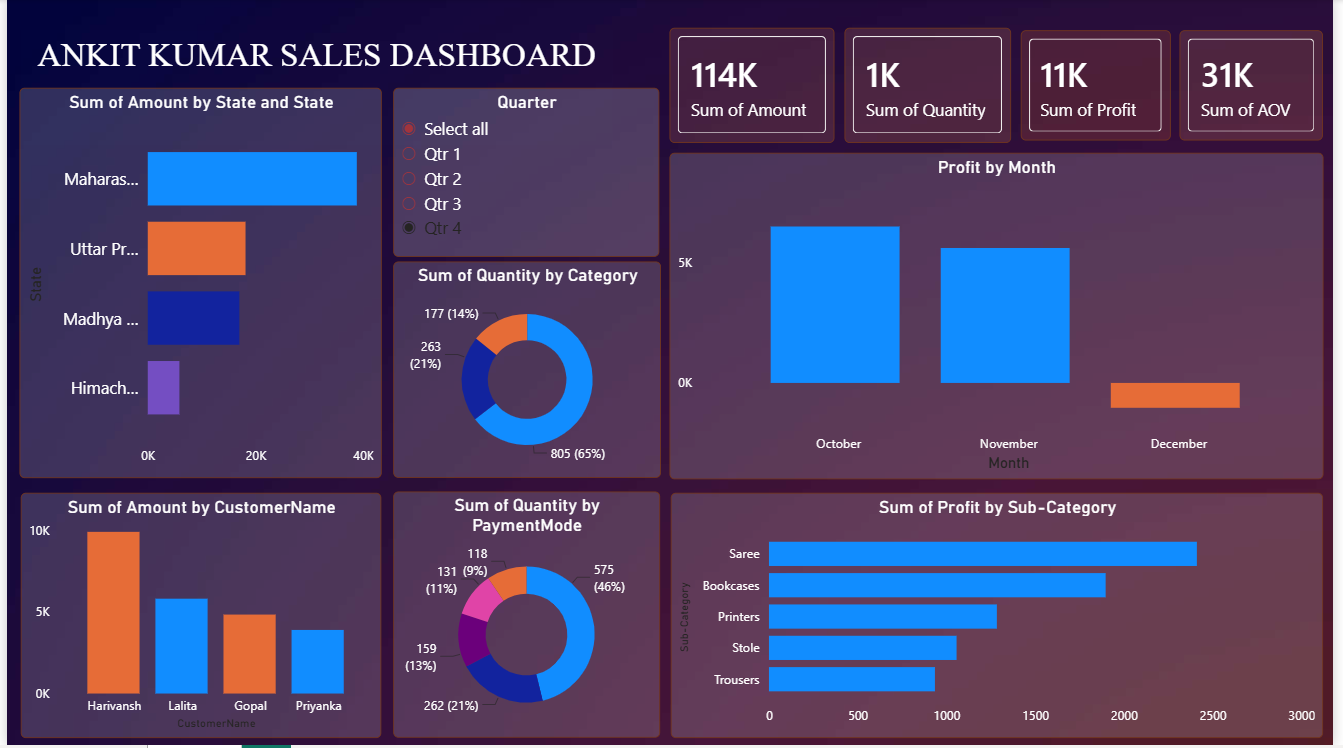

What the dashboard file says about the page in this screenshot:
{"tool":"powerbi","page":{"name":"Page 1","canvas":[1280,720],"ordinal":0},"visuals":[{"type":"textbox","box":[13.3,30.3,571.5,110.4],"z":0},{"type":"columnChart","title":"Profit by Month","fields":{"Y":["Sum(Details.Profit)"],"Category":["Orders.Order Date.Variation.Date Hierarchy.Month"]},"box":[639.4,148,630.9,315.5],"z":1000},{"type":"barChart","fields":{"Category":["Details.Sub-Category"],"Y":["Sum(Details.Profit)"]},"box":[640.6,476.8,629.7,236.6],"z":2000},{"type":"donutChart","fields":{"Category":["Details.Category"],"Y":["Sum(Details.Quantity)"]},"box":[372.5,253.6,258.4,208.7],"z":3000},{"type":"donutChart","fields":{"Y":["Sum(Details.Quantity)"],"Category":["Details.PaymentMode"]},"box":[372.5,475.6,257.2,237.8],"z":4000},{"type":"cardVisual","fields":{"Data":["Sum(Details.Amount)"]},"box":[606.6,30.3,180.8,110.4],"z":5000},{"type":"cardVisual","fields":{"Data":["Sum(Details.Quantity)"]},"box":[776.5,30.3,179.6,110.4],"z":6000},{"type":"cardVisual","fields":{"Data":["Sum(Details.Profit)"]},"box":[954.8,30.3,163.8,105.6],"z":7000},{"type":"cardVisual","fields":{"Data":["Sum(Details.Column)"]},"box":[1110.1,27.9,160.2,105.6],"z":8000},{"type":"barChart","fields":{"Category":["Orders.State"],"Series":["Orders.State"],"Y":["Sum(Details.Amount)"]},"box":[12.1,148,349.4,314.2],"z":9000},{"type":"columnChart","fields":{"Category":["Orders.CustomerName"],"Y":["Sum(Details.Amount)"]},"box":[13.3,476.8,348.2,236.6],"z":10000},{"type":"listSlicer","fields":{"Values":["Orders.Order Date.Variation.Date Hierarchy.Quarter"]},"box":[372.5,148,257.2,100.7],"z":11000}]}

Visuals, with their boxes in screenshot pixels (x1, y1, x2, y2), scaled from the page's 1280x720 canvas onto the 1343x748 screenshot:
textbox: pyautogui.locateOnScreen(14, 31, 614, 146)
"Profit by Month" columnChart: pyautogui.locateOnScreen(671, 154, 1333, 482)
barChart - Details.Sub-Category x Sum(Details.Profit): pyautogui.locateOnScreen(672, 495, 1333, 741)
donutChart - Details.Category x Sum(Details.Quantity): pyautogui.locateOnScreen(391, 263, 662, 480)
donutChart - Sum(Details.Quantity) x Details.PaymentMode: pyautogui.locateOnScreen(391, 494, 661, 741)
cardVisual - Sum(Details.Amount): pyautogui.locateOnScreen(636, 31, 826, 146)
cardVisual - Sum(Details.Quantity): pyautogui.locateOnScreen(815, 31, 1003, 146)
cardVisual - Sum(Details.Profit): pyautogui.locateOnScreen(1002, 31, 1174, 141)
cardVisual - Sum(Details.Column): pyautogui.locateOnScreen(1165, 29, 1333, 139)
barChart - Orders.State x Orders.State: pyautogui.locateOnScreen(13, 154, 379, 480)
columnChart - Orders.CustomerName x Sum(Details.Amount): pyautogui.locateOnScreen(14, 495, 379, 741)
listSlicer - Orders.Order Date.Variation.Date Hierarchy.Quarter: pyautogui.locateOnScreen(391, 154, 661, 258)
